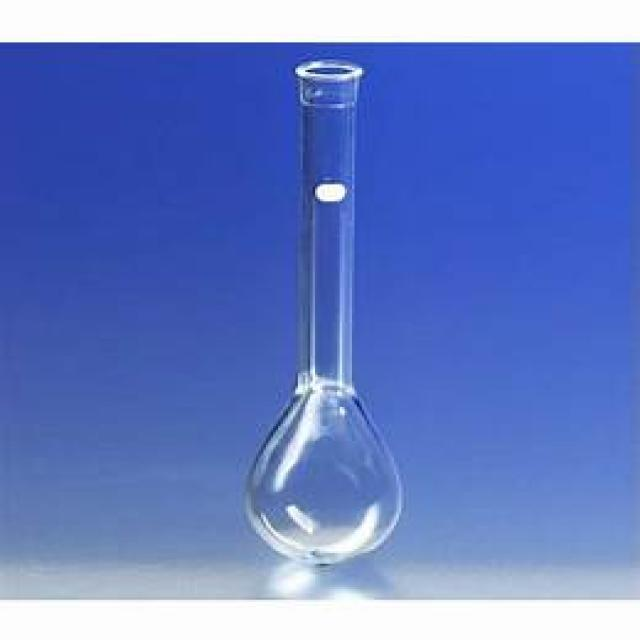Volumetric flask: (238, 50, 406, 565)
